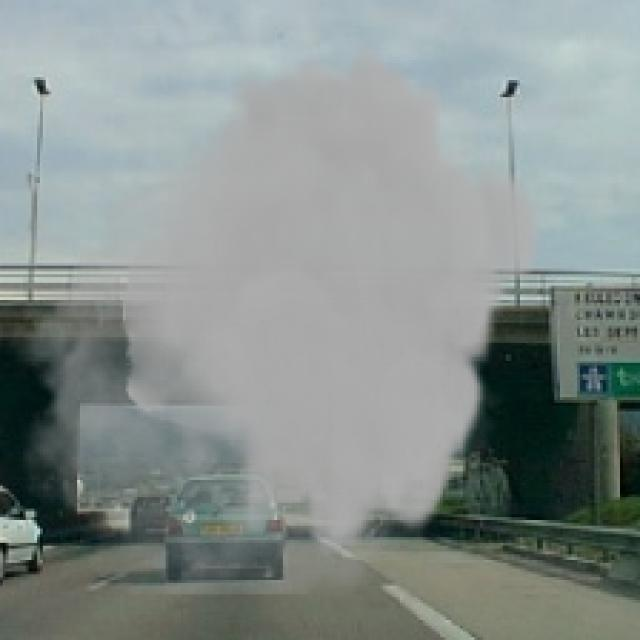Smoke: (6, 42, 546, 594)
